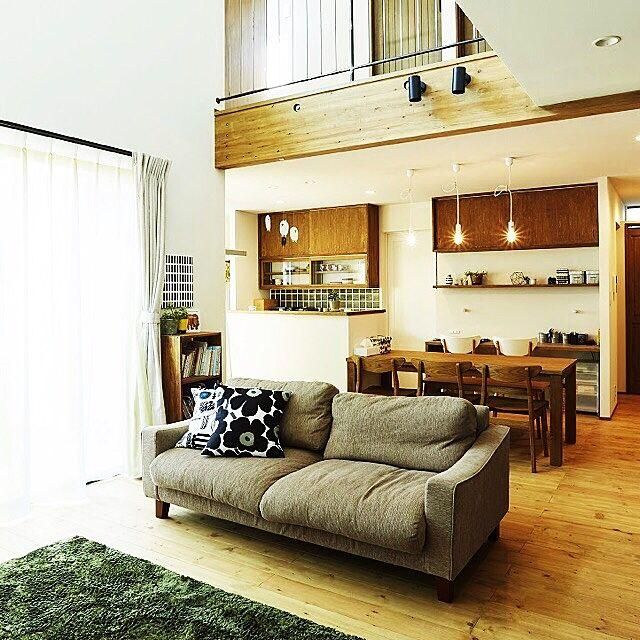modern desk: (346, 333, 582, 410)
modern sofa: (142, 367, 516, 600)
